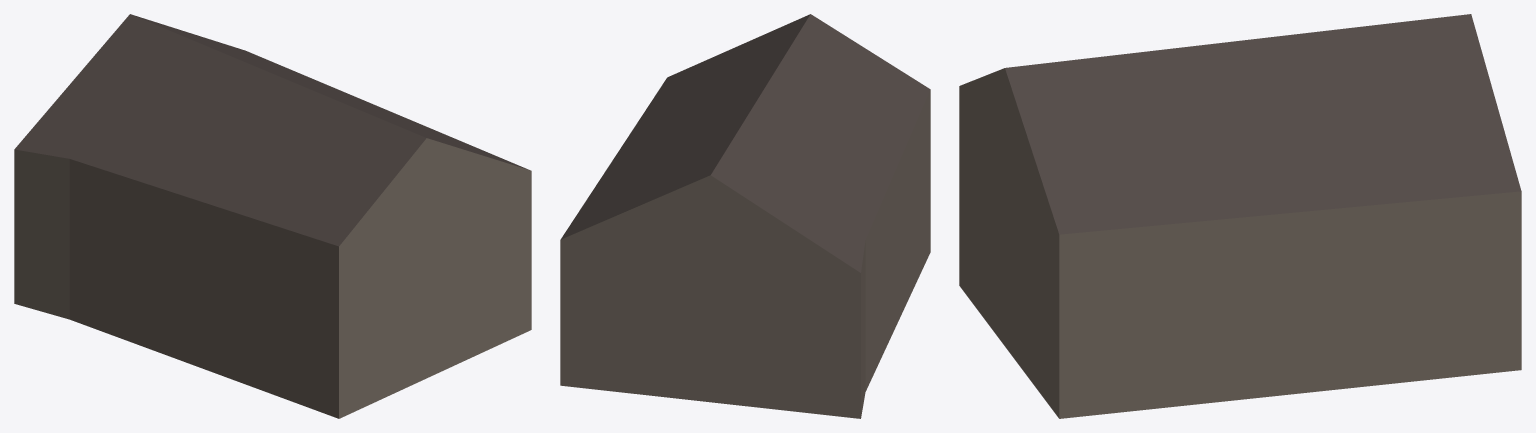
3 renders of one model, left to right at view 1: azimuth 30°, elevation 25°; view 2: azimuth 150°, elevation 25°; view 3: azimuth 270°, elevation 25°, orthographic. The views are drawn at different scales.
Visible parts, largest first — view 1: HP-w1198842491; view 2: HP-w1198842491; view 3: HP-w1198842491.
Part boxes in pixels (left/top/right/bottom): HP-w1198842491: left=14, top=14, right=531, bottom=418; HP-w1198842491: left=560, top=14, right=930, bottom=418; HP-w1198842491: left=959, top=14, right=1521, bottom=418.
Bounding box in the file's own units: 14.69 × 9.35 × 17.1.
